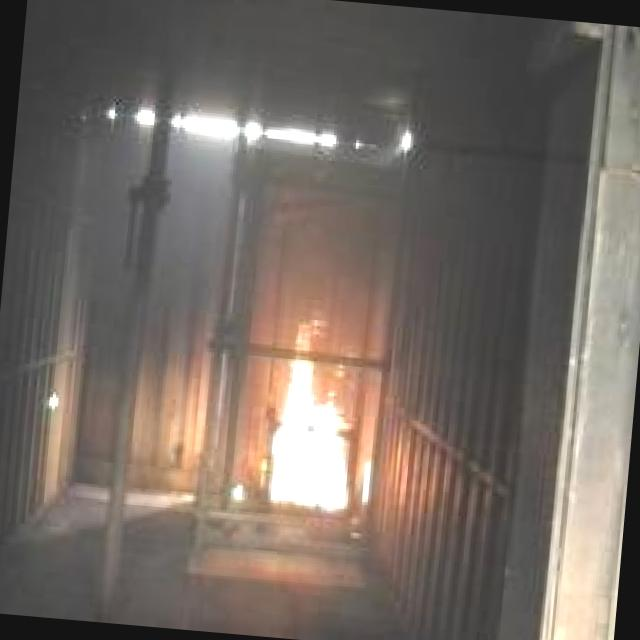fire: (252, 321, 384, 522)
